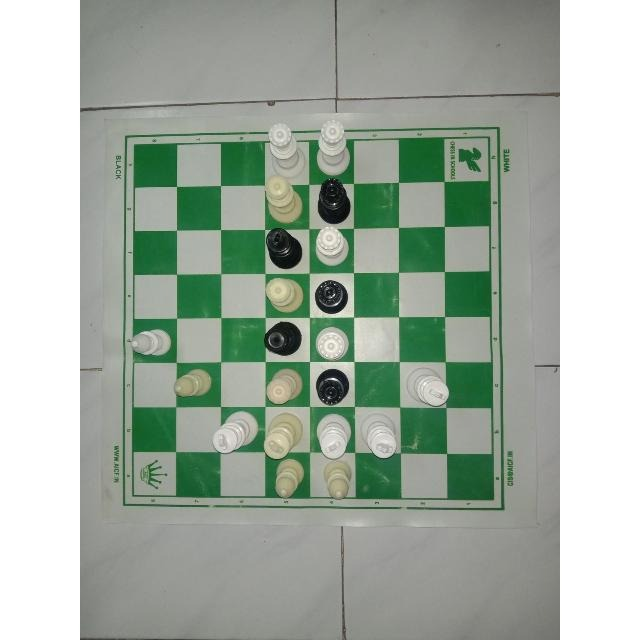black-king: (264, 225, 303, 270)
black-queen: (315, 175, 353, 225), (260, 319, 302, 357), (314, 365, 350, 406), (314, 276, 350, 316)
white-bishop: (320, 456, 356, 504), (171, 363, 216, 400), (131, 321, 173, 359), (270, 455, 308, 497)
white-king: (210, 407, 262, 457), (262, 411, 306, 461), (404, 367, 451, 408), (359, 411, 397, 461), (313, 410, 352, 457)
white-queen: (262, 120, 307, 180), (313, 116, 351, 176), (262, 171, 306, 221), (312, 222, 350, 266), (264, 366, 303, 406), (264, 276, 305, 314), (313, 323, 349, 361)
